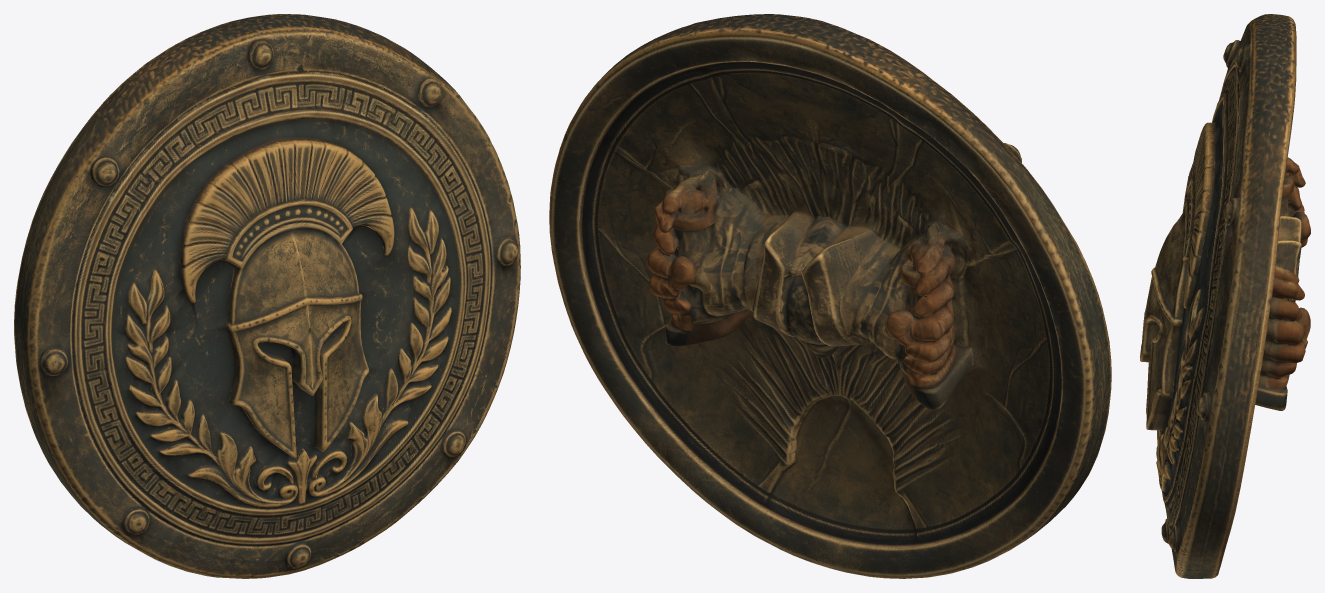
The model's file is WF_GreekRelics_HopliteShield.fbx.
3 views of the same model, side by side, from view 1: azimuth 30°, elevation 25°; view 2: azimuth 150°, elevation 25°; view 3: azimuth 270°, elevation 25° (orthographic). The views are drawn at different scales.
Visible parts, largest first — view 1: Mesh1.0; view 2: Mesh1.0; view 3: Mesh1.0.
Boxes of the visible parts, x1=… form: Mesh1.0: x1=14, y1=14, x2=520, y2=578; Mesh1.0: x1=549, y1=14, x2=1111, y2=578; Mesh1.0: x1=1140, y1=14, x2=1310, y2=578.
Bounding box in the file's own units: 190 × 191 × 57.49.
Materials: 1 (1 with a texture image).
